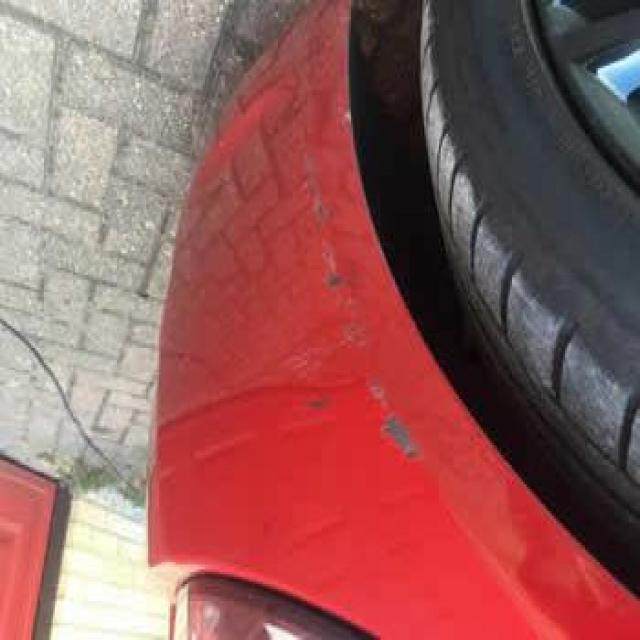scratch: (276, 148, 424, 487)
